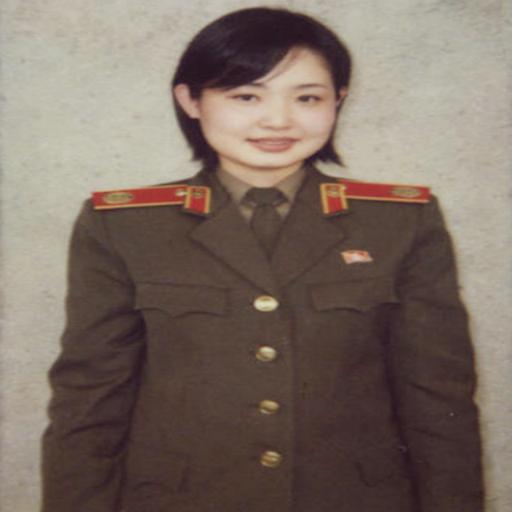north army: (85, 23, 505, 512)
